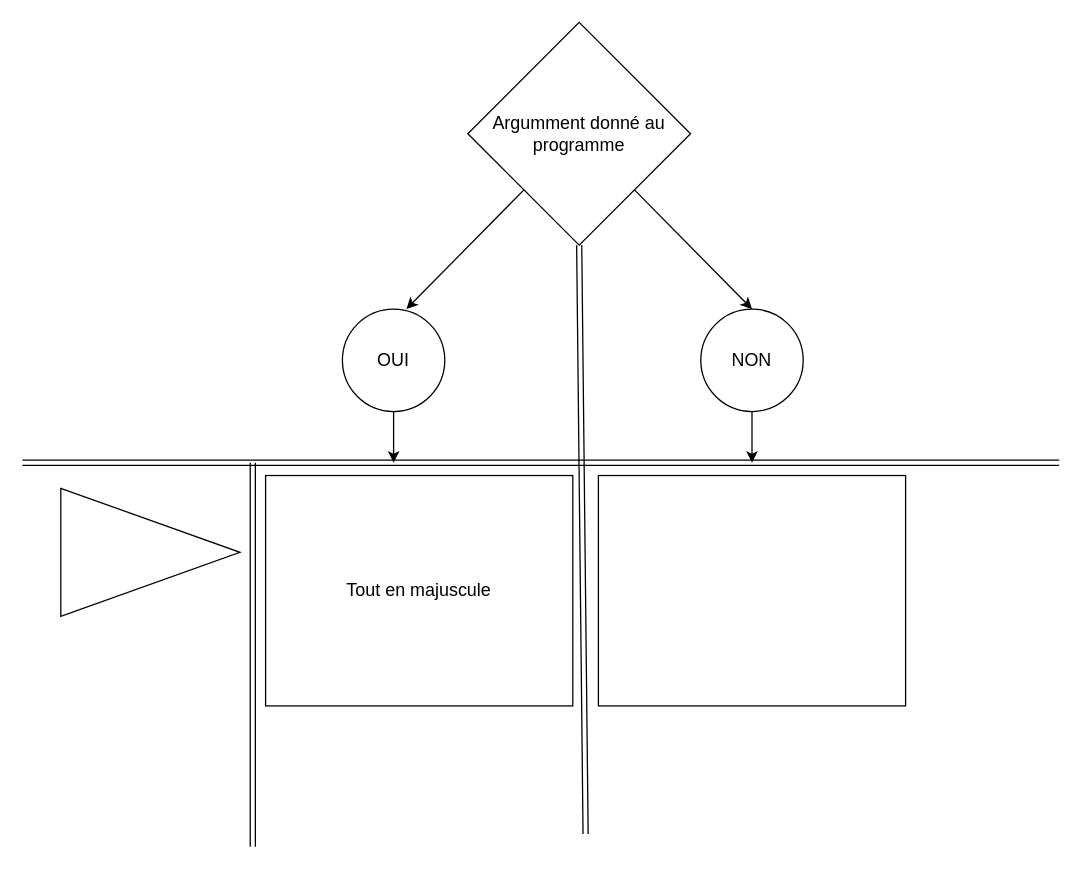
Image size: 1082x869. Some labels were removed from this diagram. The shapes that lost their labels are listed below. From the top down, each one's centre as x and y in pixels, then its label:
At pixel 150 551: "Sortie Standar :".
At pixel 751 590: "* LOUD AND UNBEARABLE FEEDBACK NOISE *".
